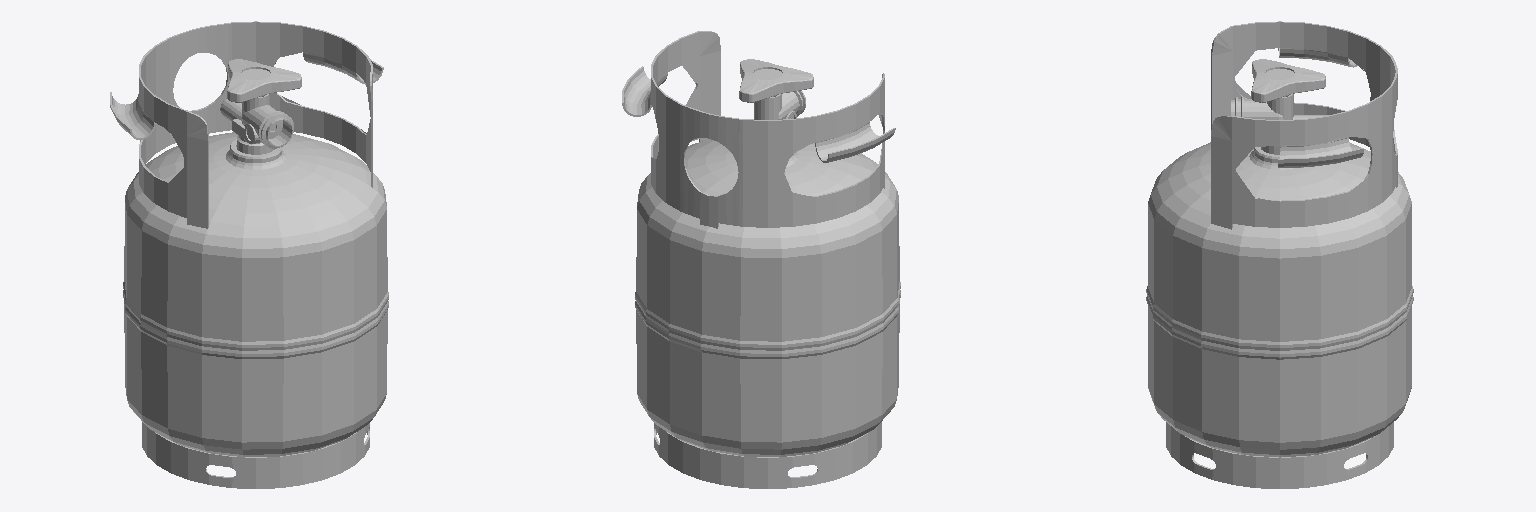
Rendered from Propane_Tank.obj.
3 views of the same model, side by side, from view 1: azimuth 30°, elevation 25°; view 2: azimuth 150°, elevation 25°; view 3: azimuth 270°, elevation 25° (orthographic).
Visible parts, largest first — view 1: Tank Propane_Tank, Propane_Tank pCylinder10 Valve, Propane_Tank Valve pCylinder5; view 2: Tank Propane_Tank, Propane_Tank pCylinder10 Valve, Propane_Tank Valve pCylinder3, Propane_Tank Valve pCylinder5; view 3: Tank Propane_Tank, Propane_Tank pCylinder10 Valve, Propane_Tank Valve pCylinder5.
Part boxes in pixels (left/top/right/bottom): Tank Propane_Tank: left=110, top=21, right=388, bottom=488; Propane_Tank pCylinder10 Valve: left=227, top=59, right=301, bottom=102; Propane_Tank Valve pCylinder5: left=242, top=105, right=293, bottom=148; Tank Propane_Tank: left=622, top=31, right=900, bottom=488; Propane_Tank pCylinder10 Valve: left=739, top=59, right=813, bottom=102; Propane_Tank Valve pCylinder3: left=754, top=94, right=781, bottom=119; Propane_Tank Valve pCylinder5: left=778, top=91, right=805, bottom=119; Tank Propane_Tank: left=1146, top=21, right=1413, bottom=488; Propane_Tank pCylinder10 Valve: left=1251, top=59, right=1325, bottom=102; Propane_Tank Valve pCylinder5: left=1231, top=97, right=1283, bottom=119.
Bounding box in the file's own units: 9.22 × 12.82 × 8.41.